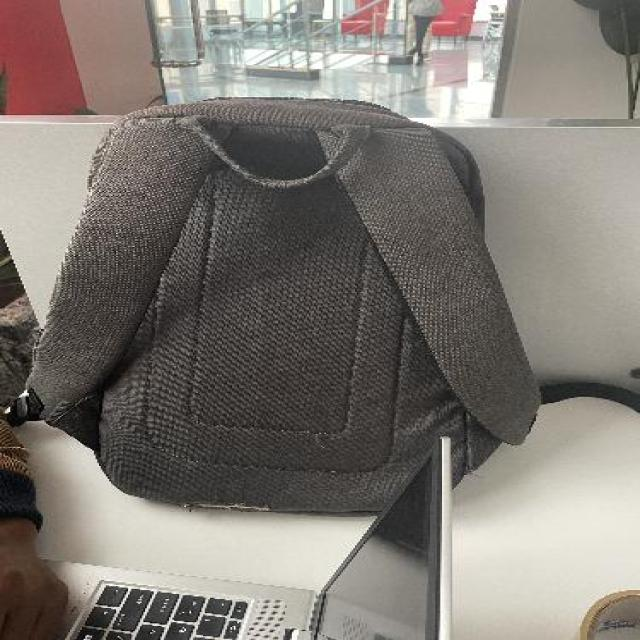canta: (5, 97, 541, 515)
